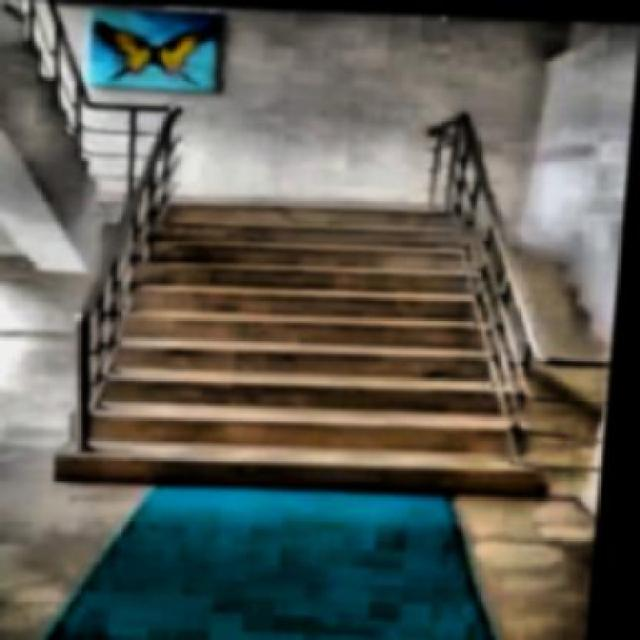stair: (66, 177, 589, 498)
